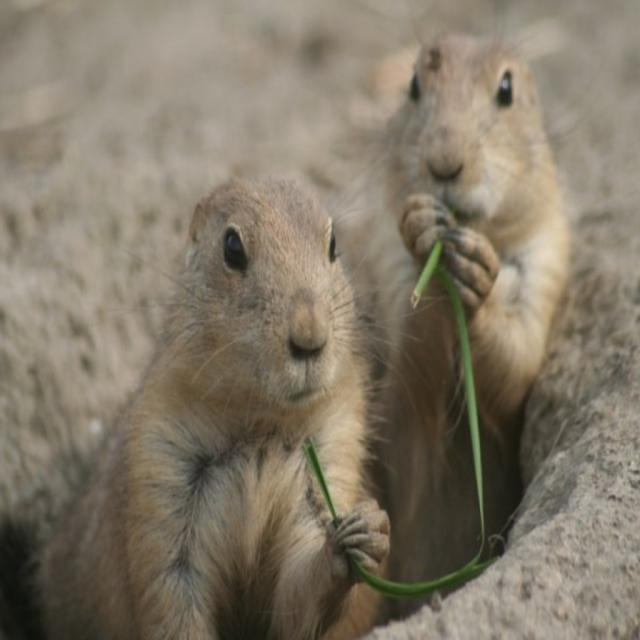rat: (58, 171, 402, 640), (359, 26, 579, 435)
